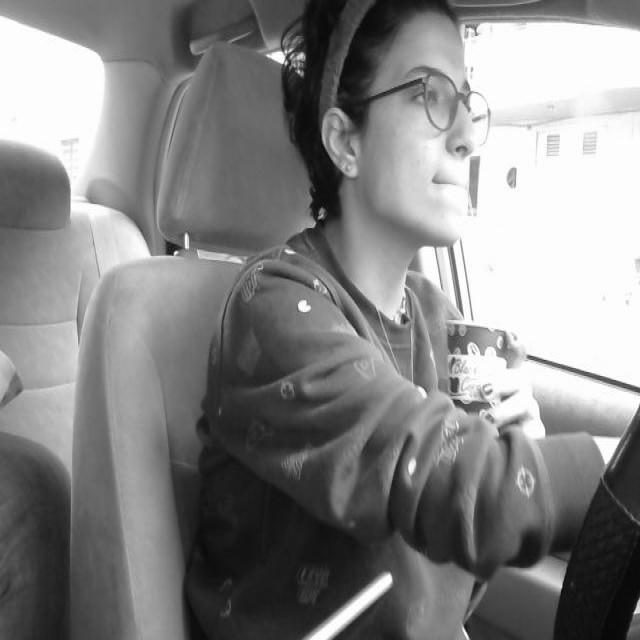drinking: (444, 310, 524, 434)
